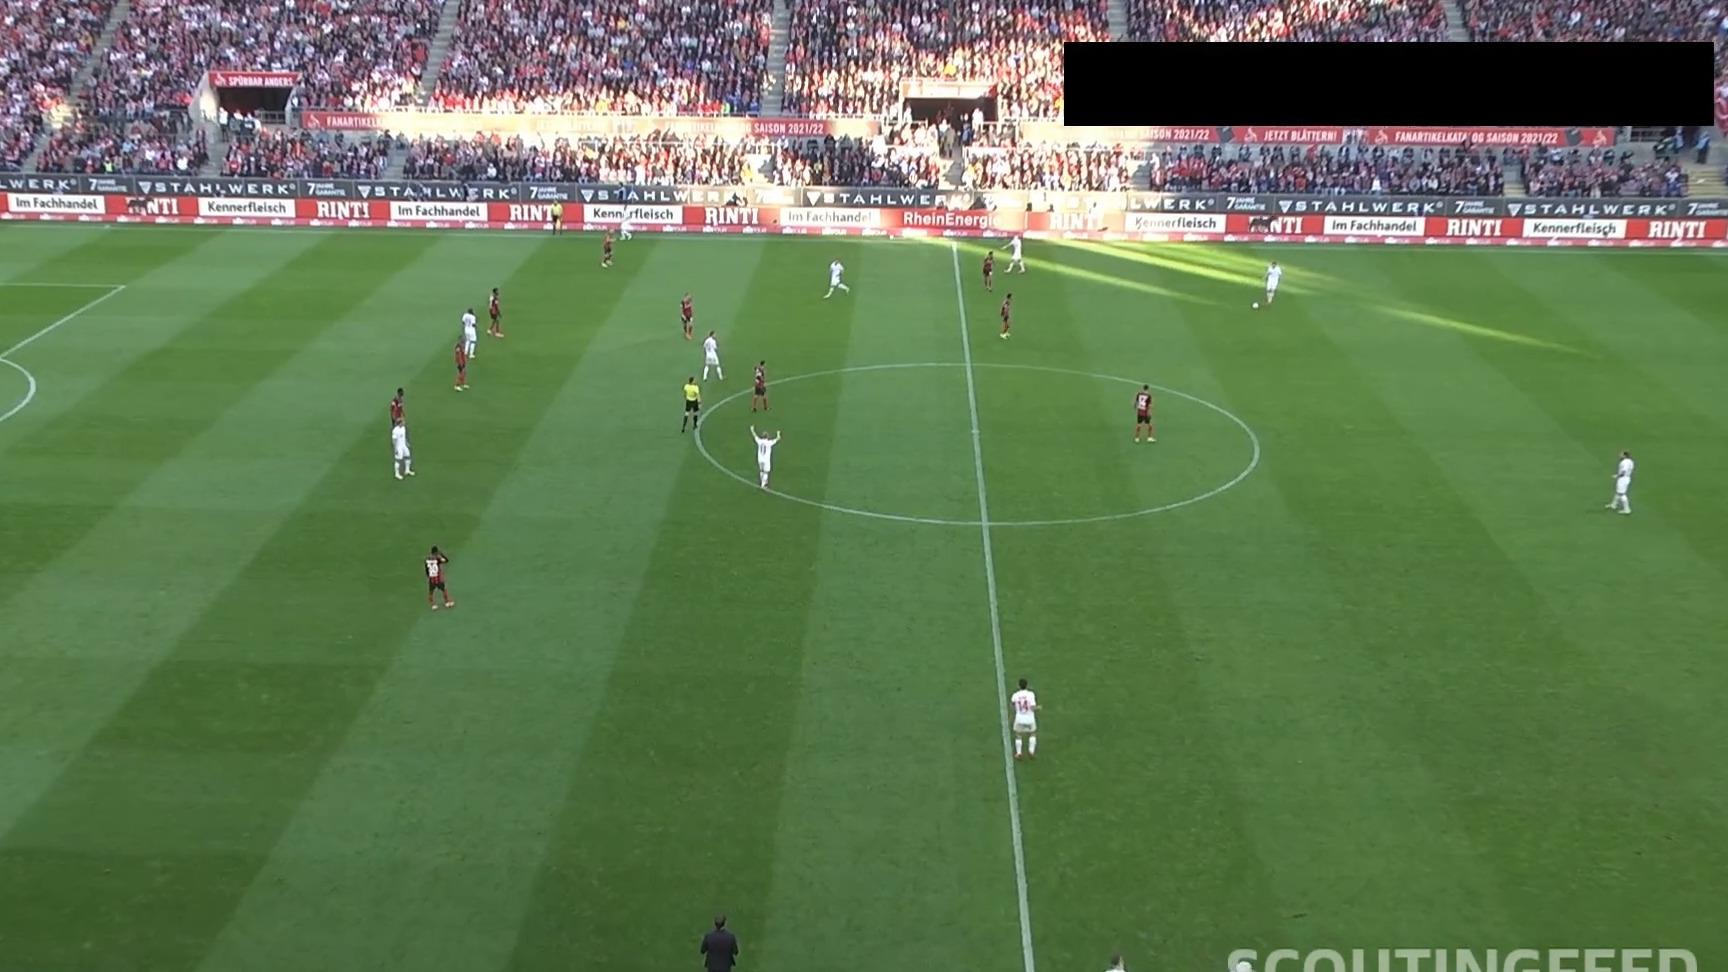ball: (1252, 301, 1259, 310)
